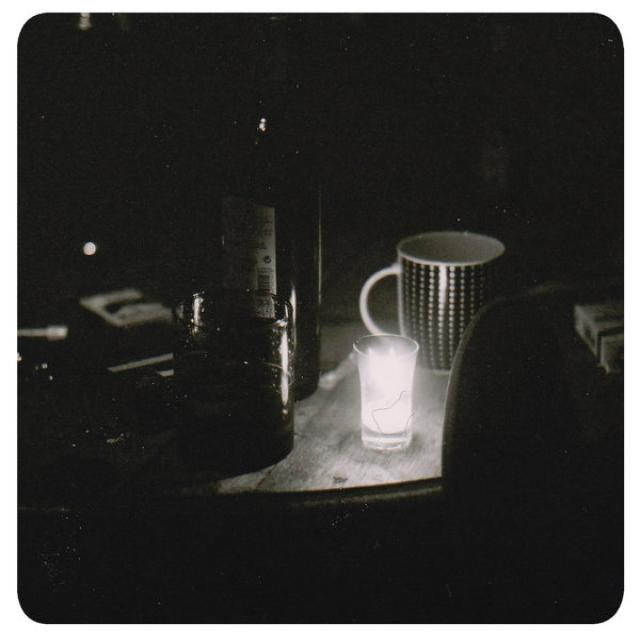Bottle: (211, 2, 364, 396)
Cup: (168, 277, 288, 460), (368, 228, 504, 349)
